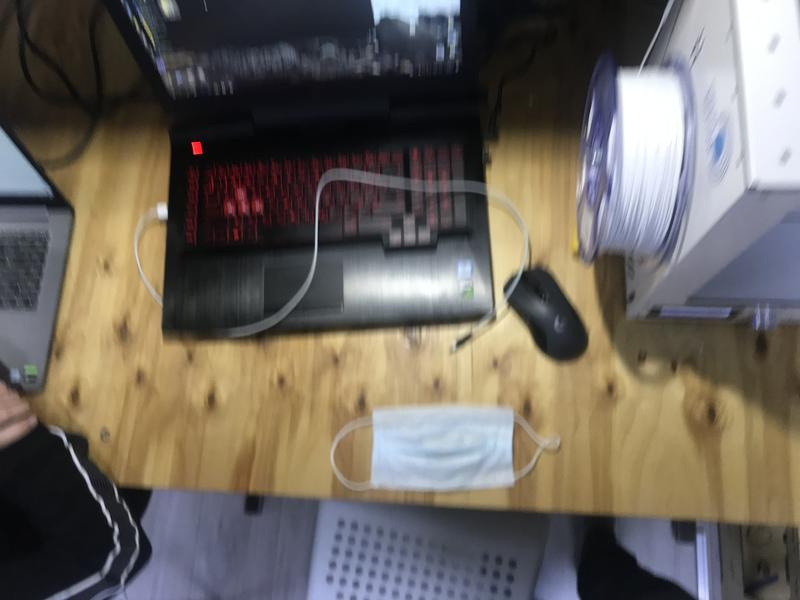medical_mask: (330, 406, 561, 490)
